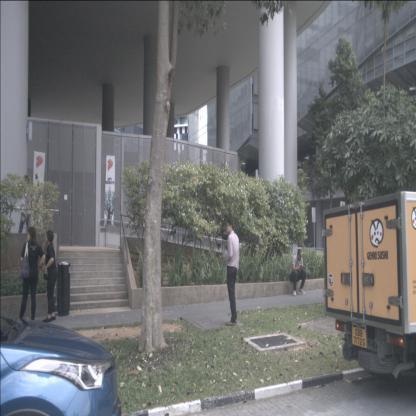human-pedestrian-adult: (18, 226, 46, 328), (223, 218, 239, 326), (40, 230, 58, 322), (17, 175, 34, 243), (290, 249, 306, 296)
vehicle-car: (0, 314, 122, 416)
vehicle-truck: (321, 190, 416, 383)
